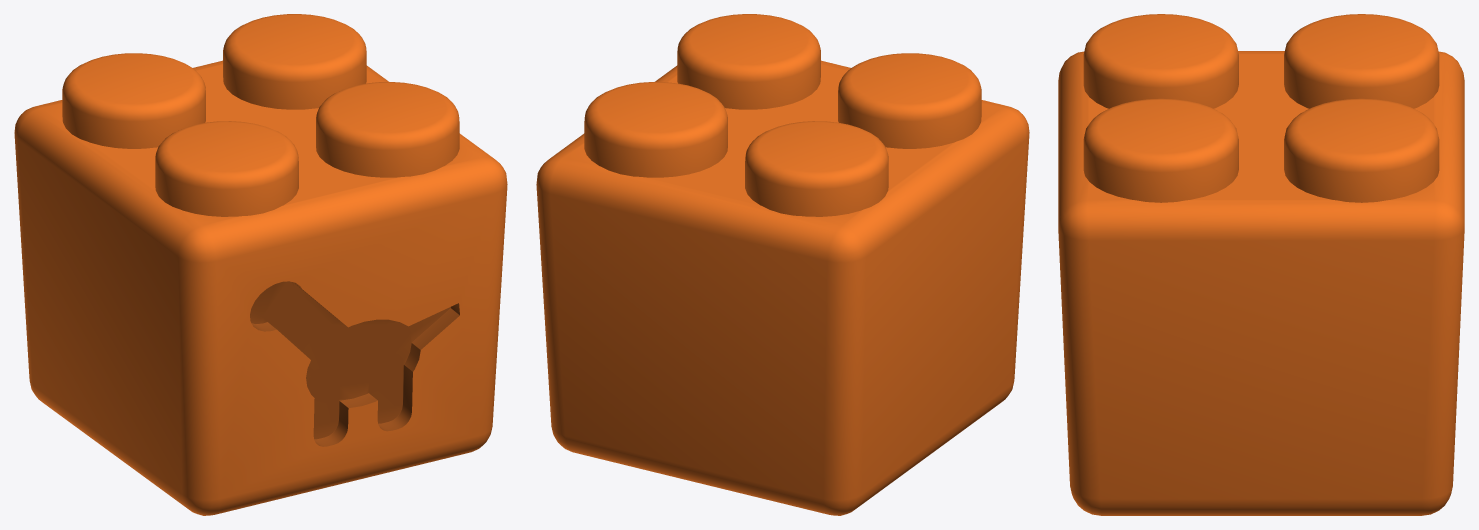
The model's file is Block_Dino.fbx.
3 views of the same model, side by side, from view 1: azimuth 30°, elevation 25°; view 2: azimuth 150°, elevation 25°; view 3: azimuth 270°, elevation 25° (orthographic). The views are drawn at different scales.
Parts seen in each view (by area): view 1: Block_Dino; view 2: Block_Dino; view 3: Block_Dino.
Boxes of the visible parts, box(x1,y1,x2,y2) form: Block_Dino: box(14, 14, 507, 515); Block_Dino: box(536, 14, 1029, 515); Block_Dino: box(1058, 14, 1464, 515).
Bounding box in the file's own units: 99.39 × 97.5 × 99.39.
